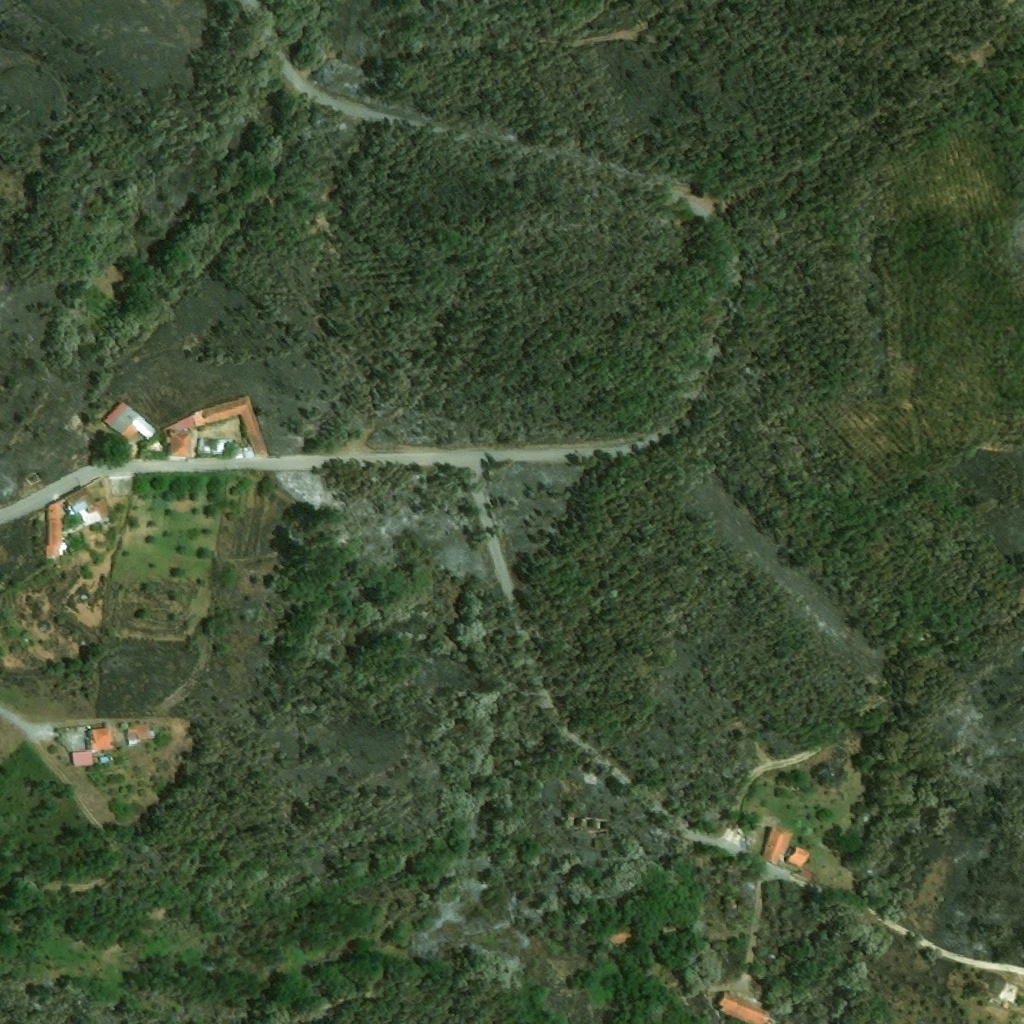0 no-damage: (193, 395, 268, 456), (47, 486, 113, 527), (104, 398, 156, 441), (716, 991, 781, 1023), (759, 828, 792, 866), (127, 724, 157, 745), (198, 438, 233, 455), (171, 431, 193, 458), (165, 413, 197, 431), (787, 845, 810, 869), (90, 727, 111, 749), (47, 519, 62, 544), (73, 749, 92, 766), (48, 544, 62, 559), (99, 754, 115, 764), (784, 846, 794, 857), (121, 722, 127, 729)
3 destroyed: (577, 812, 613, 834), (588, 774, 600, 785)
4 un-classified: (719, 1018, 728, 1023)
